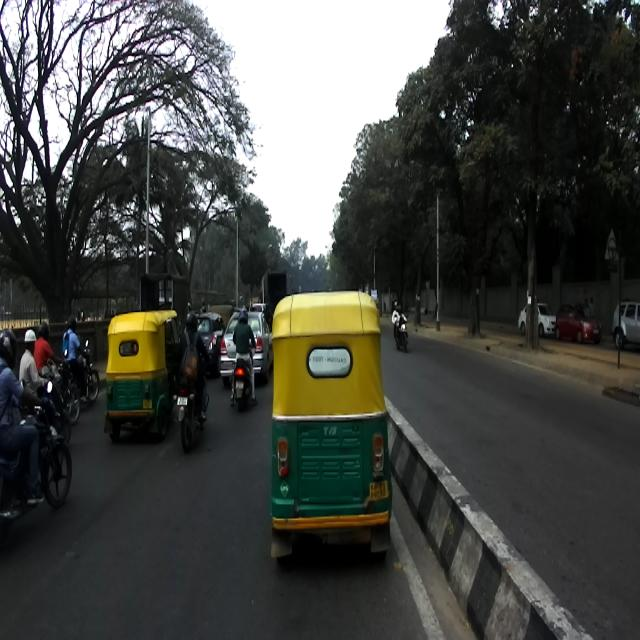auto ahead at: (272, 294, 393, 549), (97, 308, 175, 436)
motorcycle ahead at: (29, 388, 71, 509)
